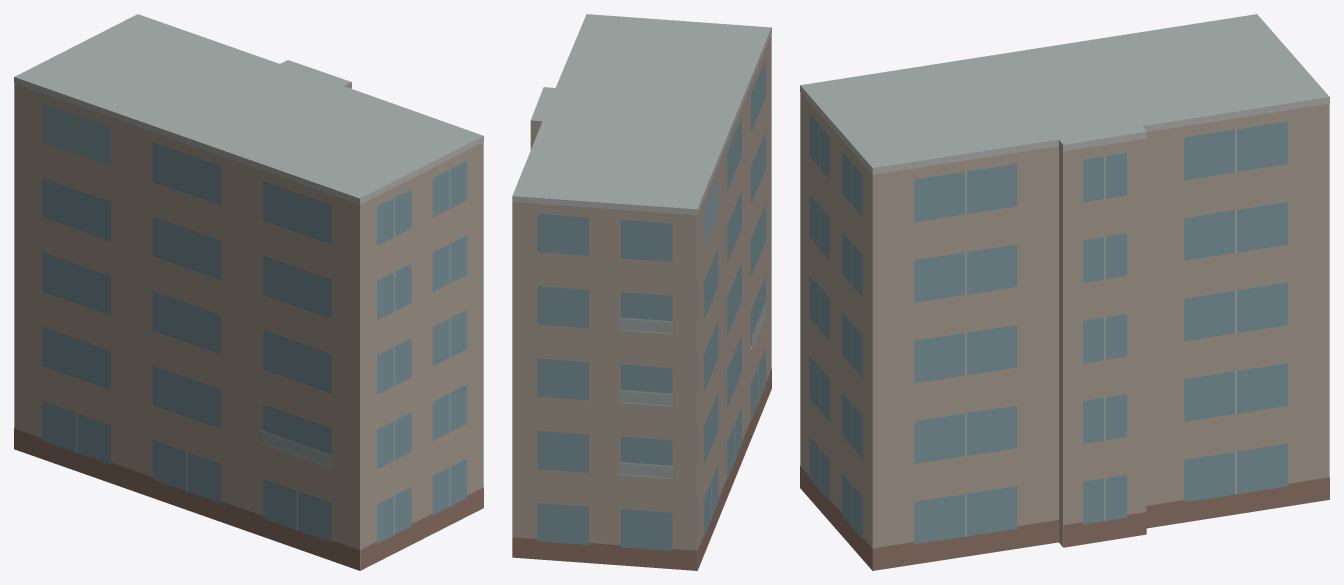
Rendered from survey-upis-32765765.glb.
The picture shows the model from 3 angles, left to right: view 1: azimuth 30°, elevation 25°; view 2: azimuth 150°, elevation 25°; view 3: azimuth 270°, elevation 25°; orthographic projection. The views are drawn at different scales.
Visible parts, largest first — view 1: survey-upis-32765765.tmp; view 2: survey-upis-32765765.tmp; view 3: survey-upis-32765765.tmp.
Boxes of the visible parts, <box> form: survey-upis-32765765.tmp: <box>14,14,483,570</box>; survey-upis-32765765.tmp: <box>512,14,771,570</box>; survey-upis-32765765.tmp: <box>800,14,1329,570</box>.
Size of the model in its own units: 12.16 by 14.8 by 17.65.
